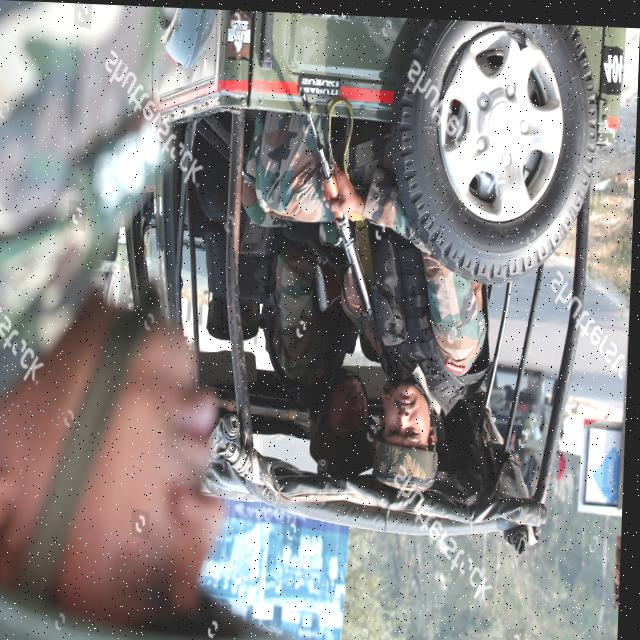unit number: (602, 41, 625, 90)
